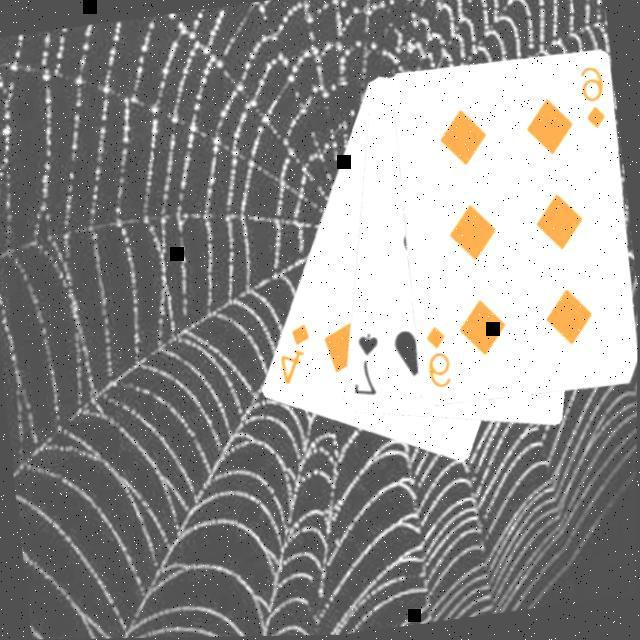4D: (270, 321, 316, 392)
6D: (418, 325, 455, 396), (574, 65, 610, 136)
7S: (342, 332, 386, 405)
